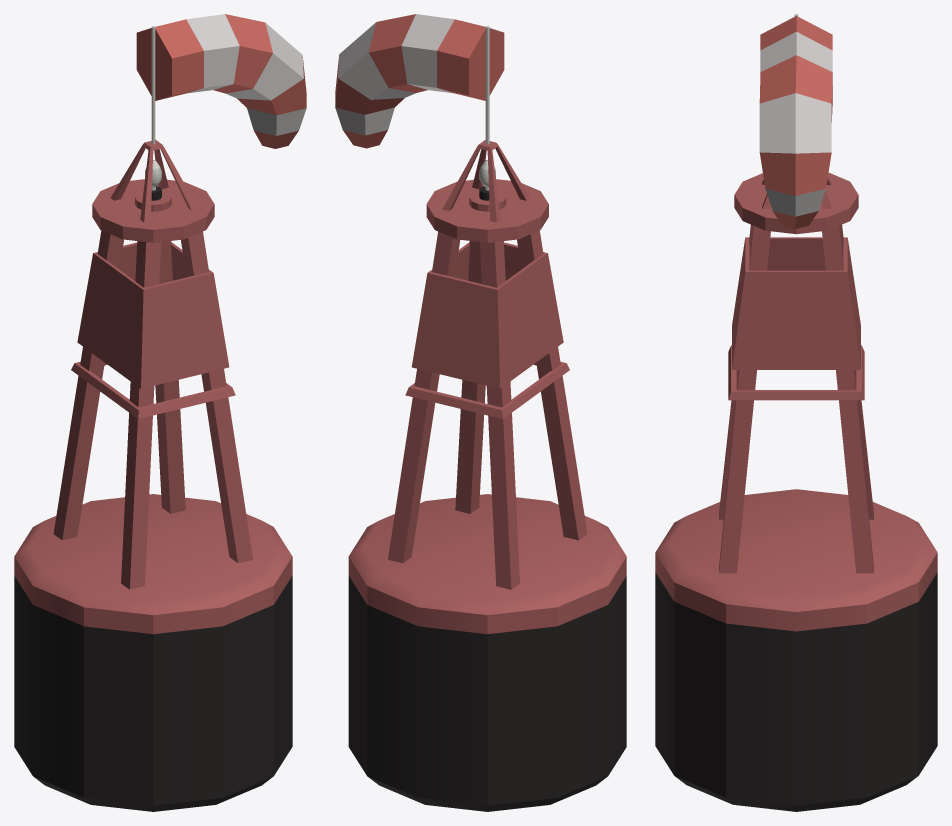
The model's file is Buoys_Pipa.fbx.
3 renders of one model, left to right at view 1: azimuth 30°, elevation 25°; view 2: azimuth 150°, elevation 25°; view 3: azimuth 270°, elevation 25°, orthographic.
Parts seen in each view (by area): view 1: BuoyPe, BuoyApoio2, BuoyApoio, Vela, Palito; view 2: BuoyPe, BuoyApoio2, BuoyApoio, Vela, Palito; view 3: BuoyPe, BuoyApoio2, Vela, BuoyApoio.
Part boxes in pixels (x1=…): BuoyPe: x1=14, y1=494, x2=292, y2=811; BuoyApoio2: x1=71, y1=179, x2=235, y2=418; BuoyApoio: x1=53, y1=139, x2=253, y2=589; Vela: x1=136, y1=14, x2=306, y2=148; Palito: x1=151, y1=26, x2=155, y2=144; BuoyPe: x1=348, y1=494, x2=626, y2=811; BuoyApoio2: x1=405, y1=179, x2=569, y2=418; BuoyApoio: x1=388, y1=140, x2=587, y2=589; Vela: x1=335, y1=14, x2=504, y2=148; Palito: x1=485, y1=26, x2=489, y2=144; BuoyPe: x1=655, y1=489, x2=937, y2=811; BuoyApoio2: x1=728, y1=173, x2=864, y2=400; Vela: x1=759, y1=16, x2=832, y2=228; BuoyApoio: x1=719, y1=177, x2=873, y2=573.
Size of the model in its own units: 1.81 by 4.62 by 1.59.
